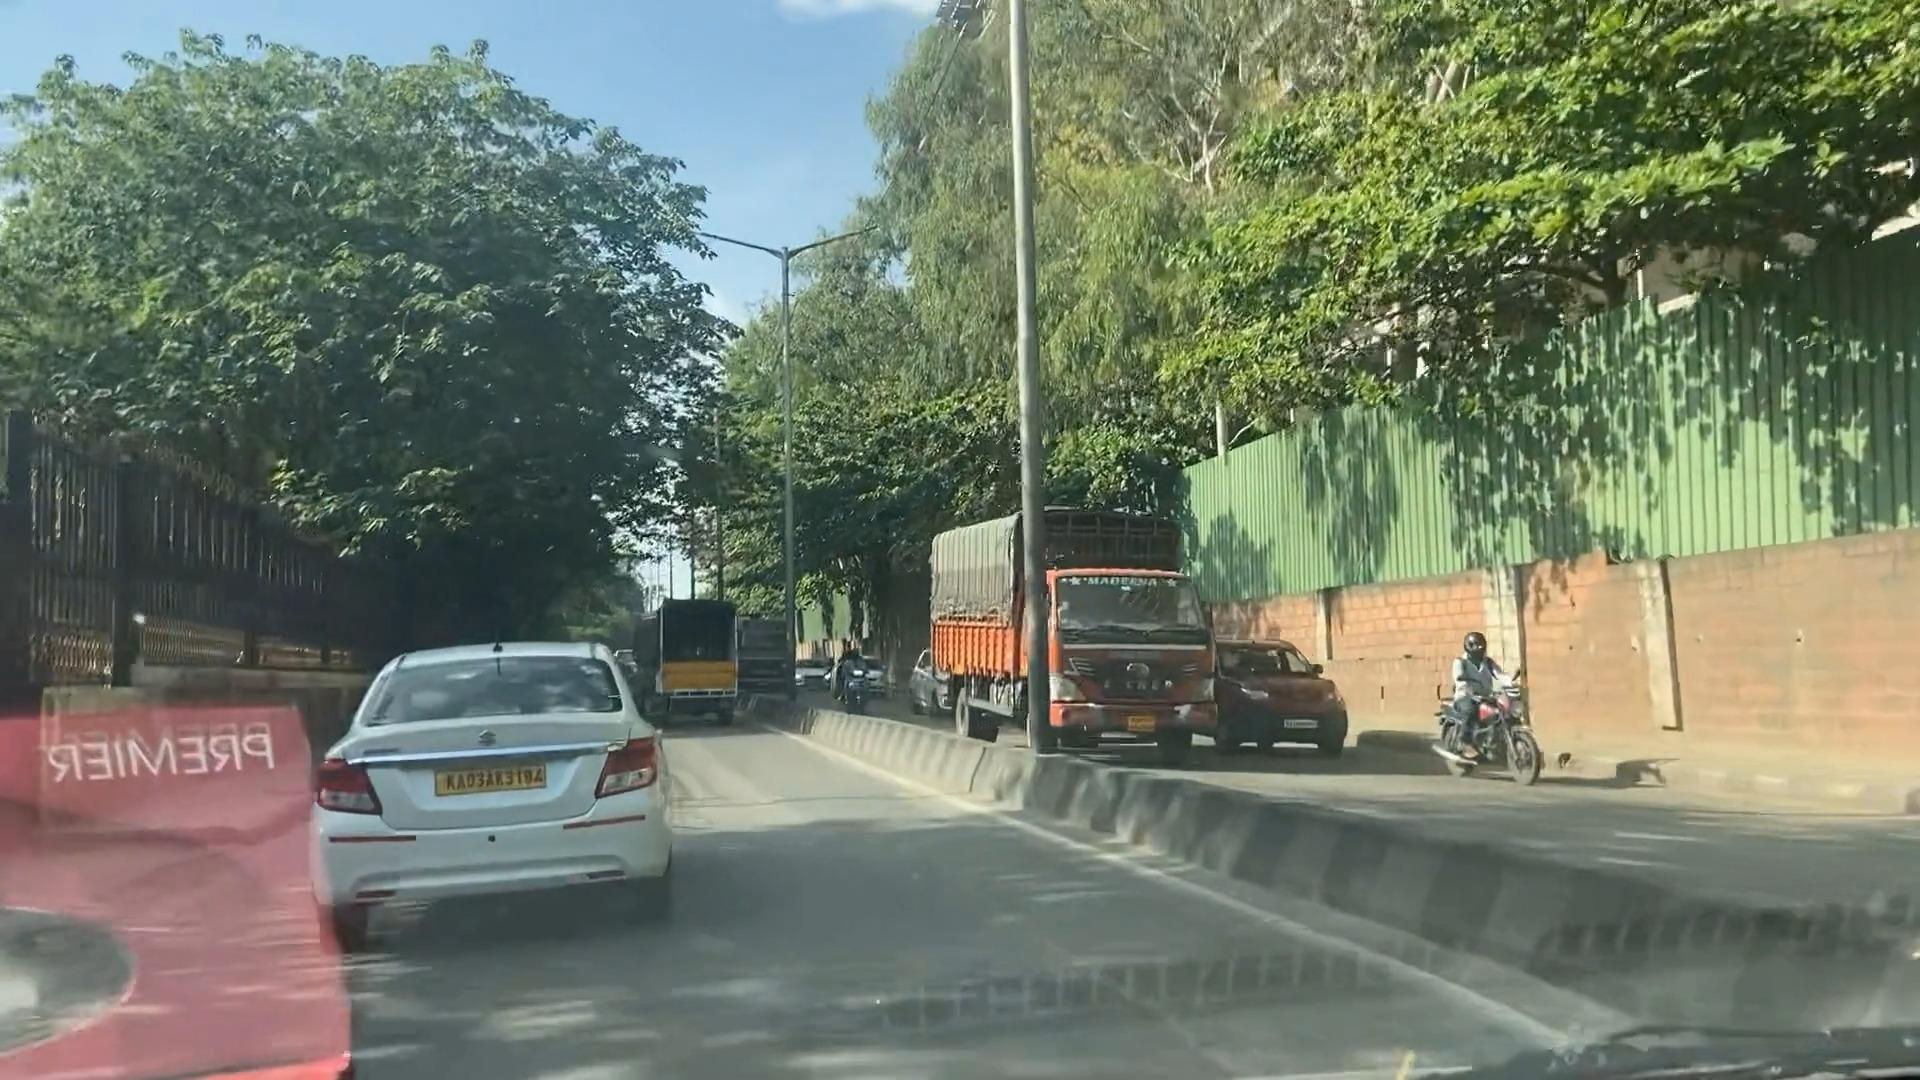HMV: (914, 506, 1230, 761)
